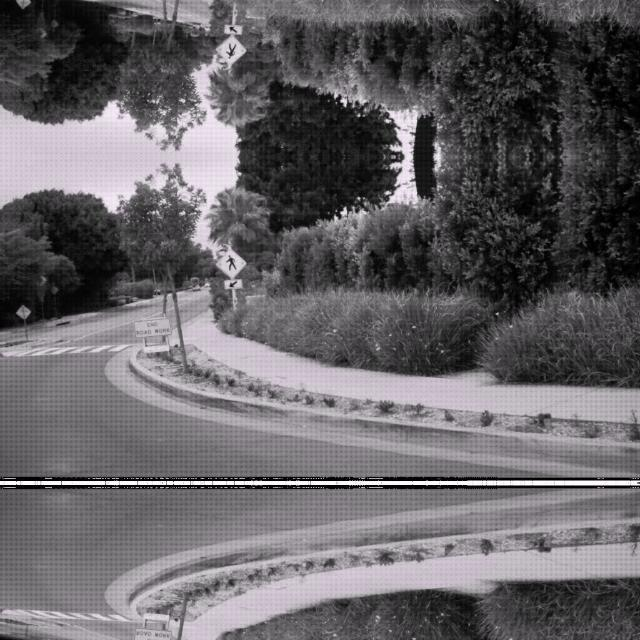pedestrianCrossing: (214, 246, 246, 278), (214, 34, 246, 66)
